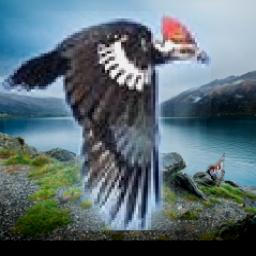Sparrow: (206, 152, 225, 187)
Woodpecker: (0, 12, 211, 231)
